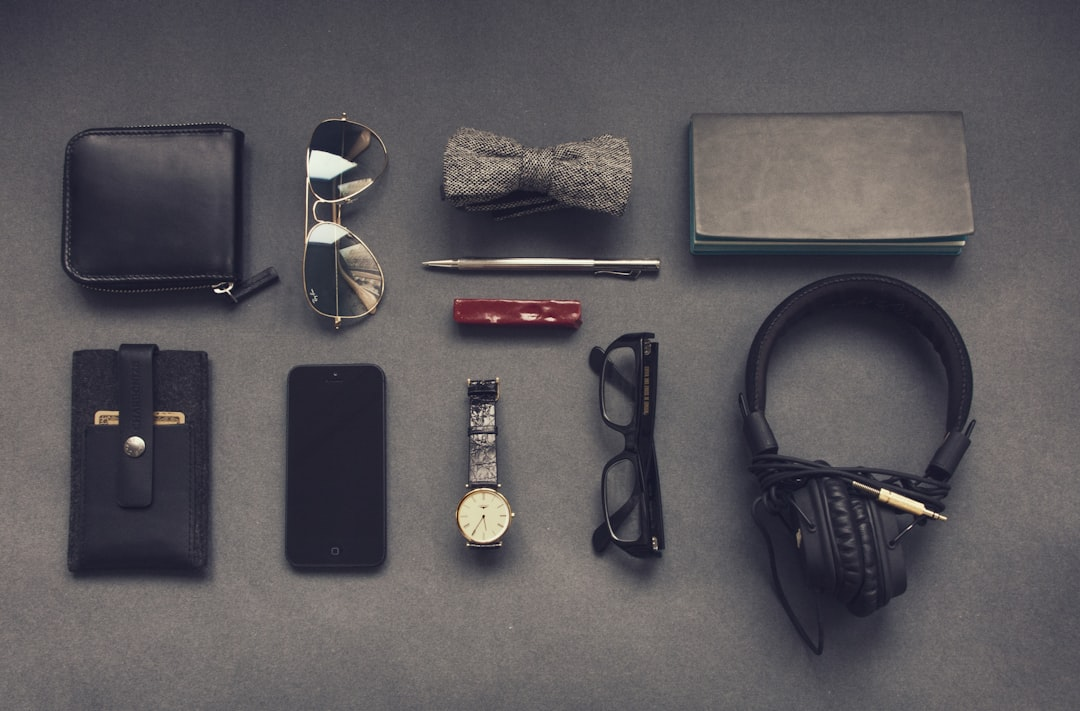phone: (284, 362, 387, 575)
